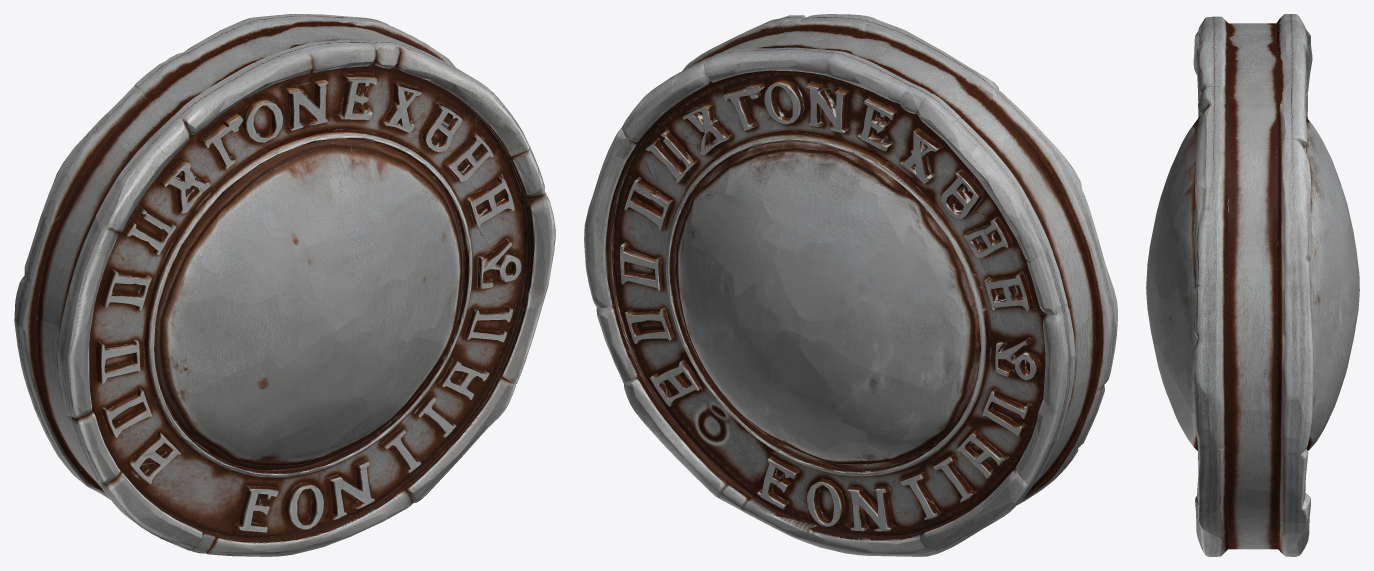
Rendered from obol.glb.
The picture shows the model from 3 angles, left to right: view 1: azimuth 30°, elevation 25°; view 2: azimuth 150°, elevation 25°; view 3: azimuth 270°, elevation 25°; orthographic projection. The views are drawn at different scales.
Size of the model in its own units: 1.9 by 1.88 by 0.7417.
1 material, 1 textured.
